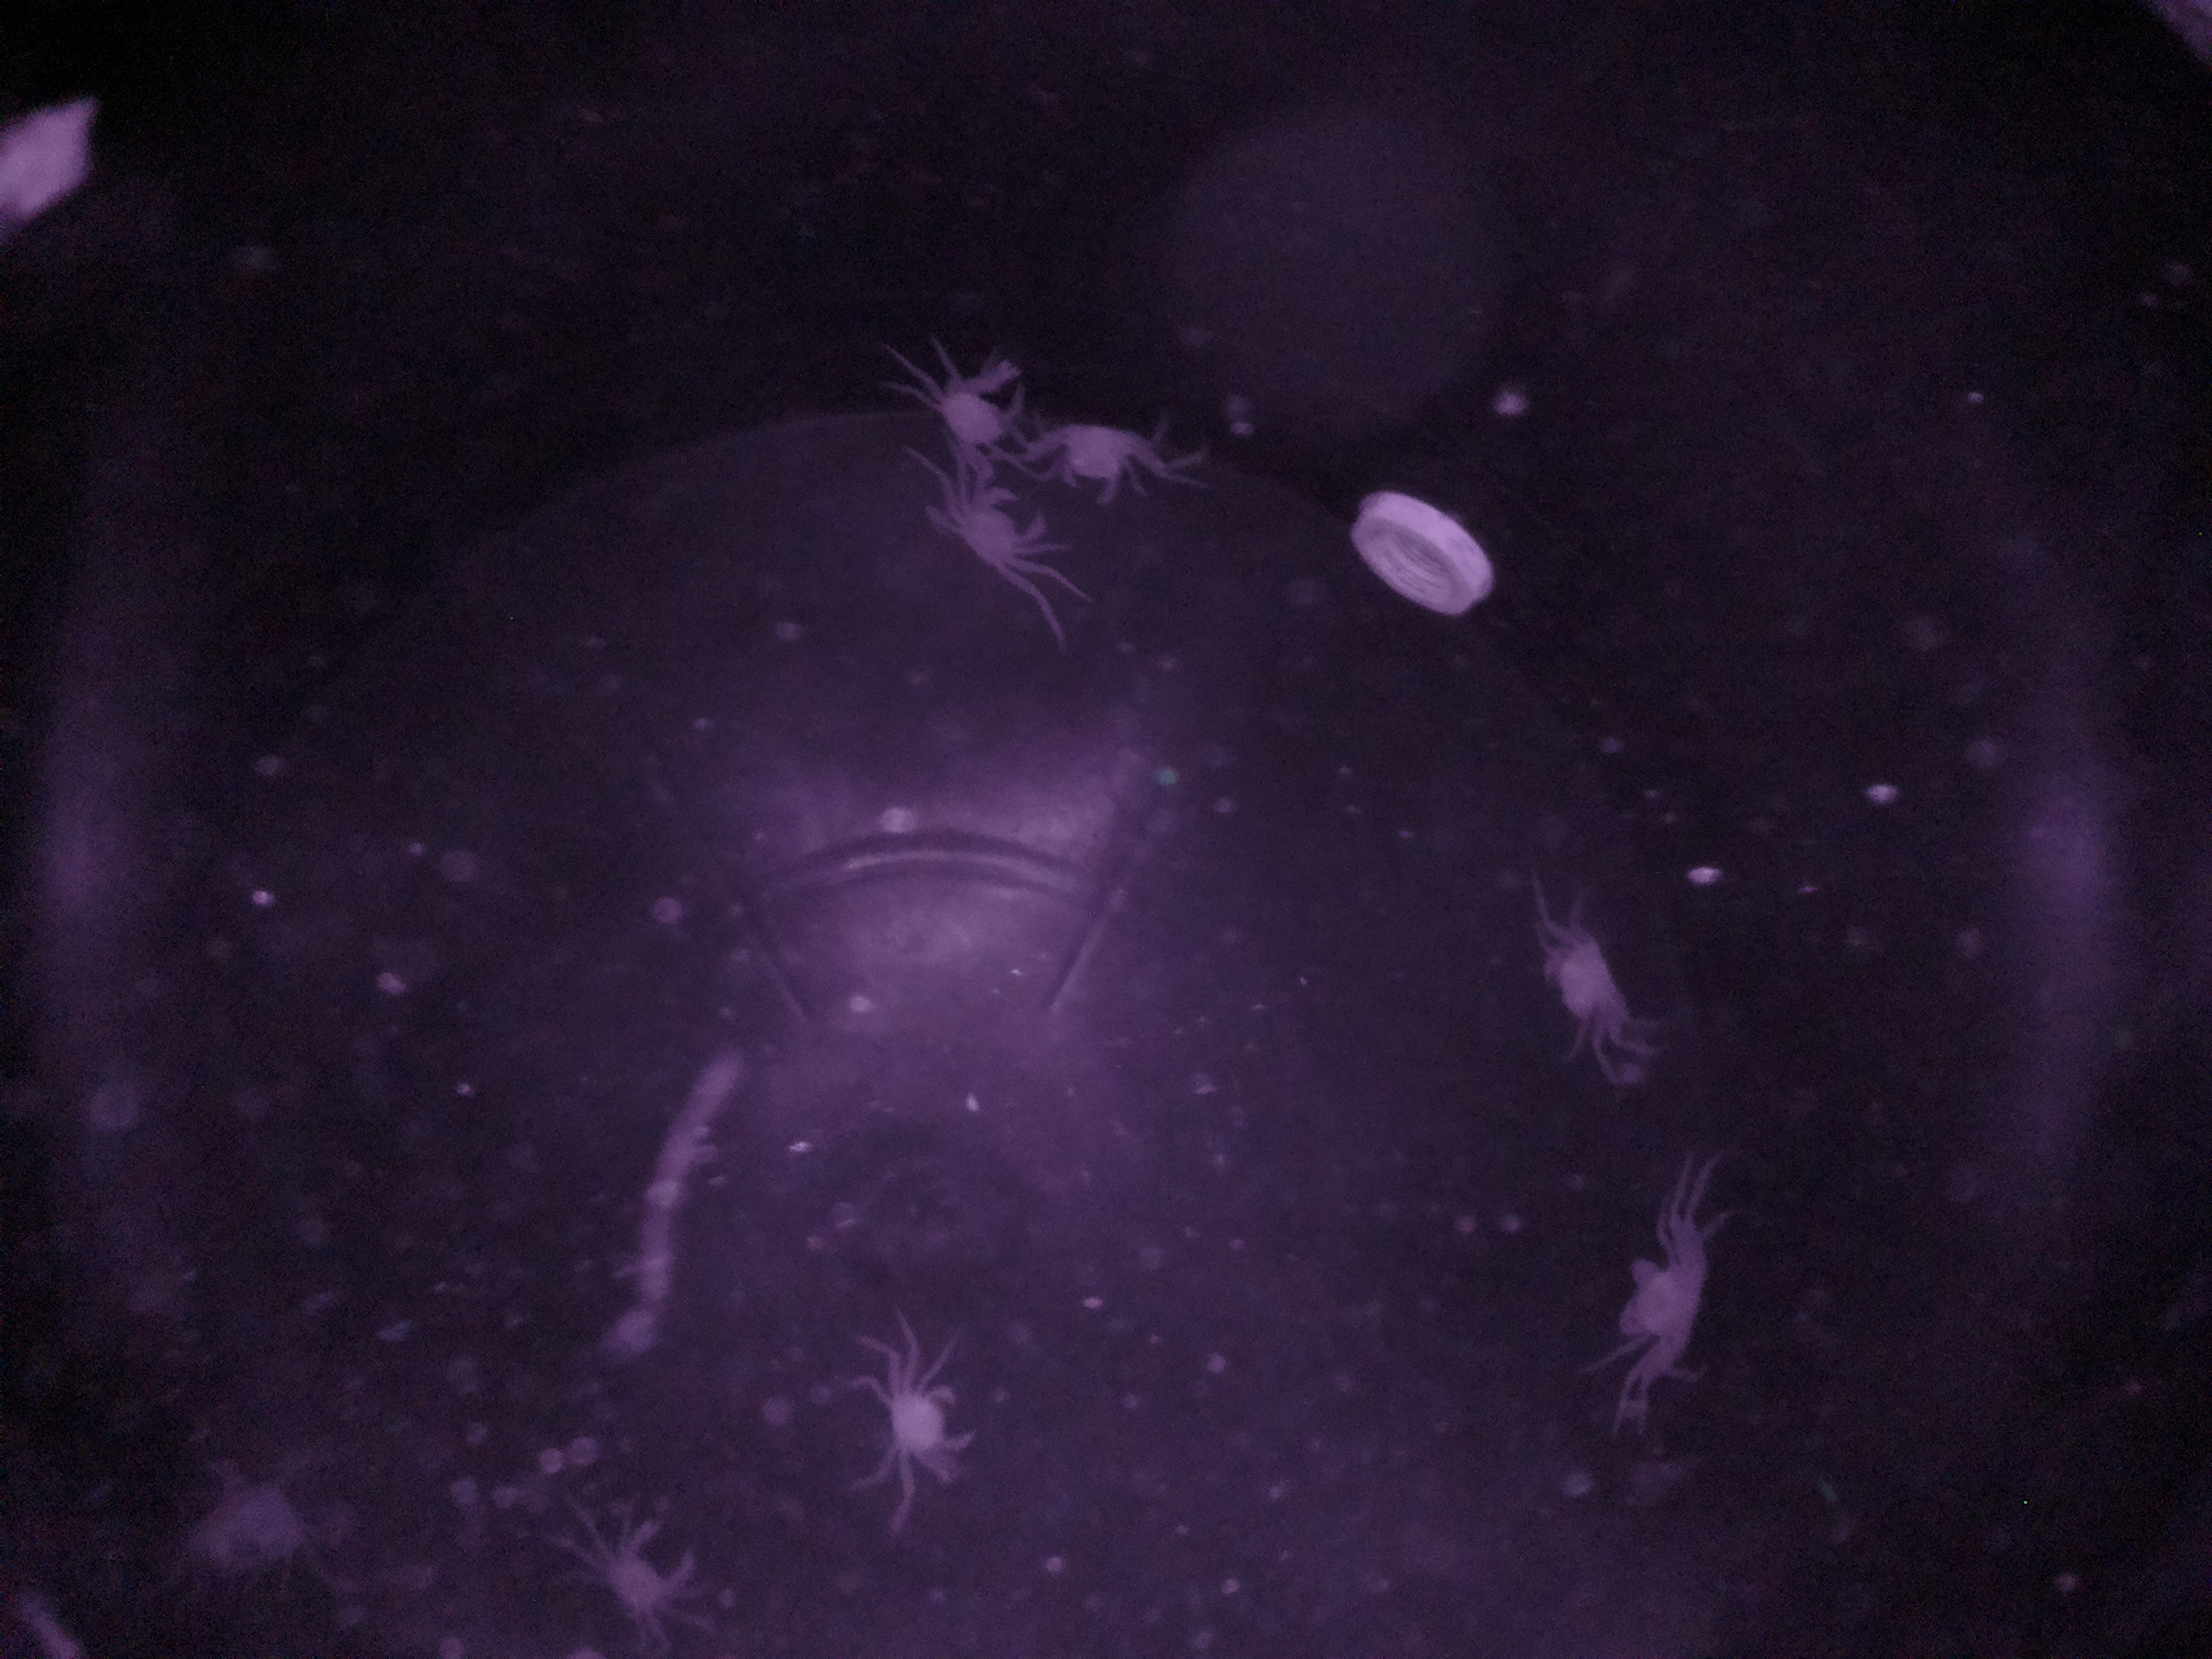Crab: (1594, 1218, 1737, 1389), (923, 462, 1073, 605), (1529, 904, 1641, 1065), (862, 1363, 982, 1492)
